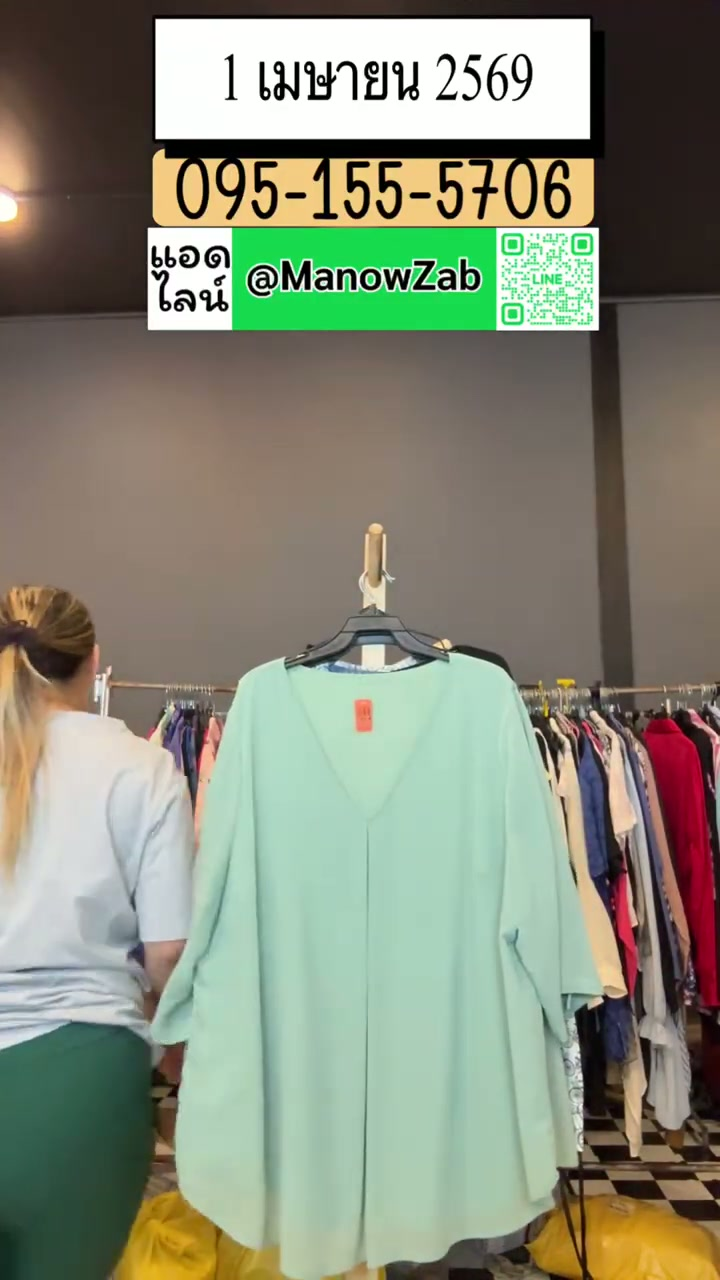display_shirt: (156, 643, 601, 1279)
